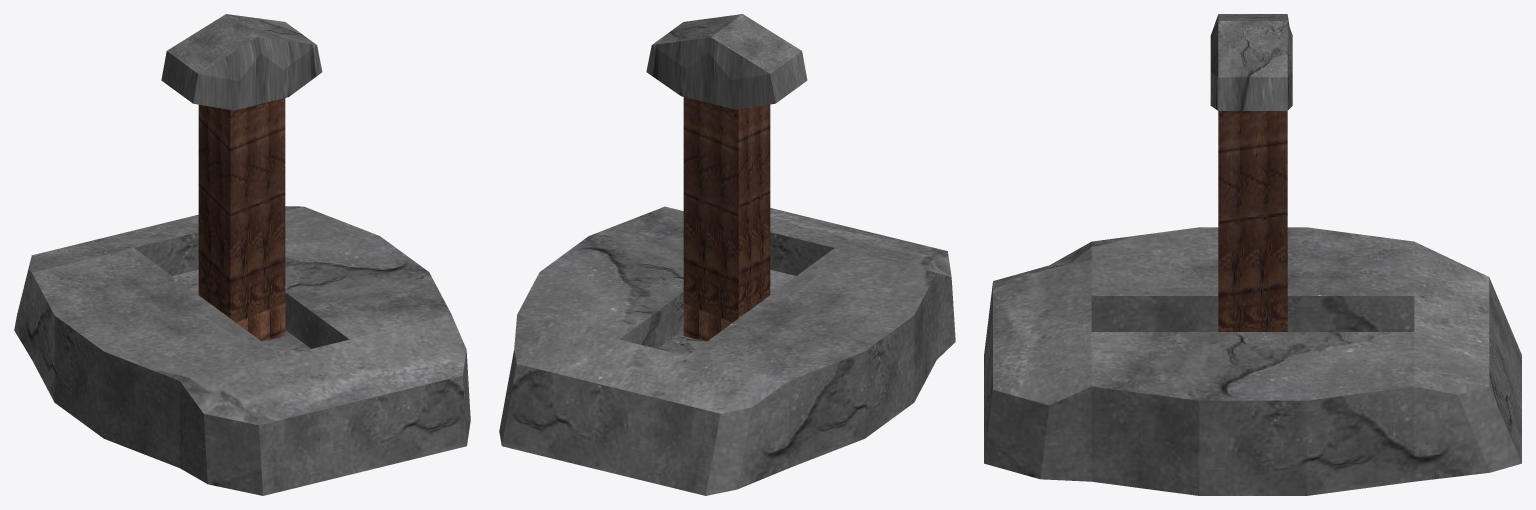
Rendered from Lever.fbx.
3 renders of one model, left to right at view 1: azimuth 30°, elevation 25°; view 2: azimuth 150°, elevation 25°; view 3: azimuth 270°, elevation 25°, orthographic. The views are drawn at different scales.
Parts seen in each view (by area): view 1: Base, Knob; view 2: Base, Knob; view 3: Base, Knob.
Part boxes in pixels (x1=…): Base: x1=14, y1=206, x2=470, y2=495; Knob: x1=161, y1=14, x2=322, y2=341; Base: x1=499, y1=206, x2=955, y2=495; Knob: x1=646, y1=14, x2=807, y2=341; Base: x1=984, y1=227, x2=1521, y2=495; Knob: x1=1210, y1=14, x2=1292, y2=331.
Bounding box in the file's own units: 239 × 250 × 314.
3 materials, 3 textured.
